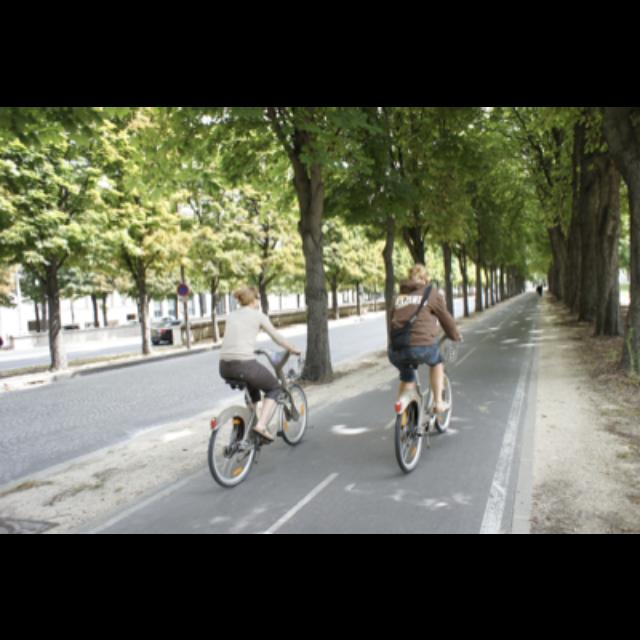Without Helmet: (234, 274, 262, 308), (404, 258, 432, 286)
